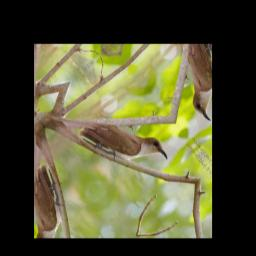Cuckoo: (78, 94, 172, 197)
